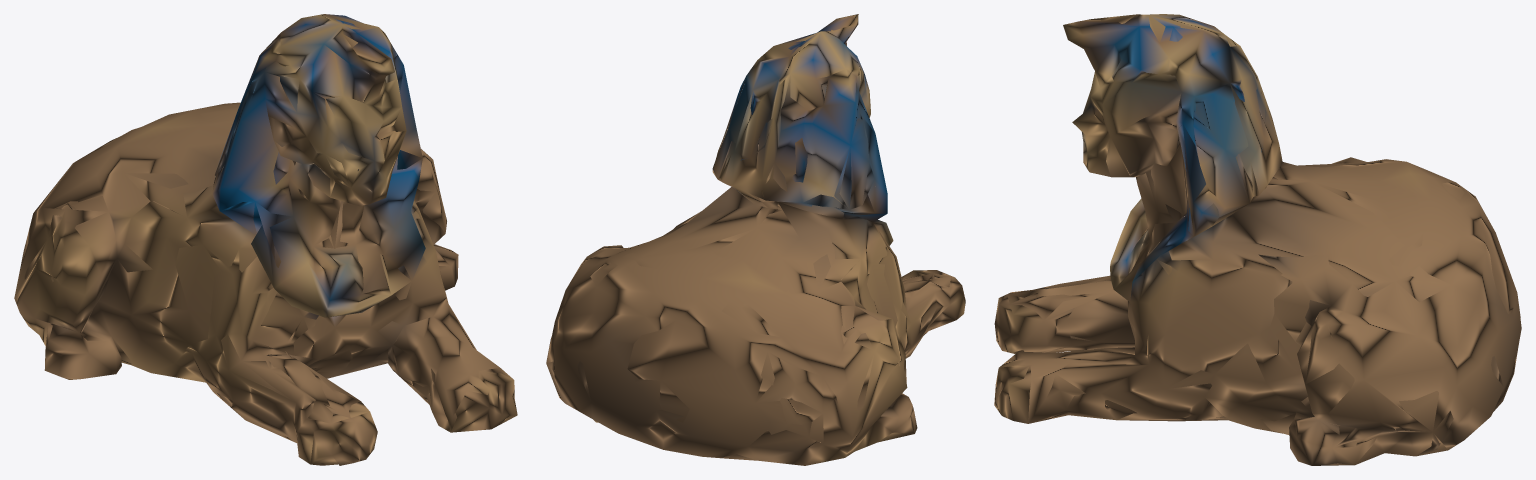
Rendered from gen3d-sphinx-lod0.glb.
3 renders of one model, left to right at view 1: azimuth 30°, elevation 25°; view 2: azimuth 150°, elevation 25°; view 3: azimuth 270°, elevation 25°, orthographic. The views are drawn at different scales.
Parts seen in each view (by area): view 1: part_0; view 2: part_0; view 3: part_0.
Part boxes in pixels (box(x1,y1,x2,y2)): part_0: box(14, 14, 517, 465); part_0: box(546, 14, 965, 465); part_0: box(994, 14, 1521, 465).
Size of the model in its own units: 1.15 by 1 by 1.32.
